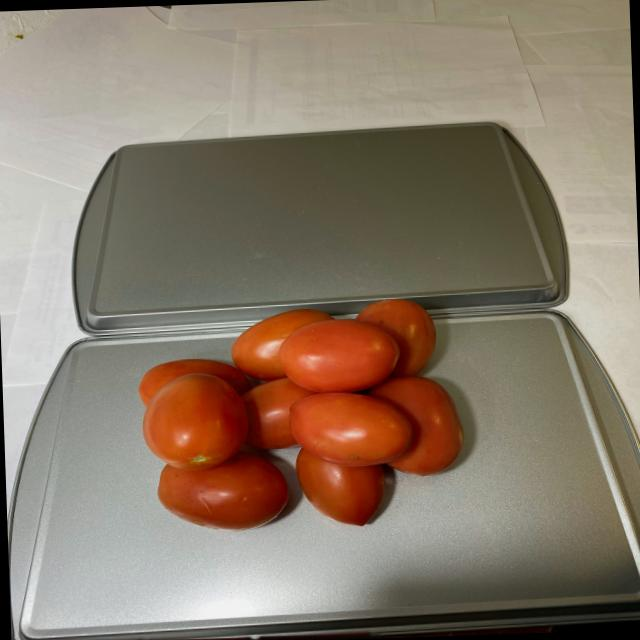tomato: (133, 292, 475, 540)
